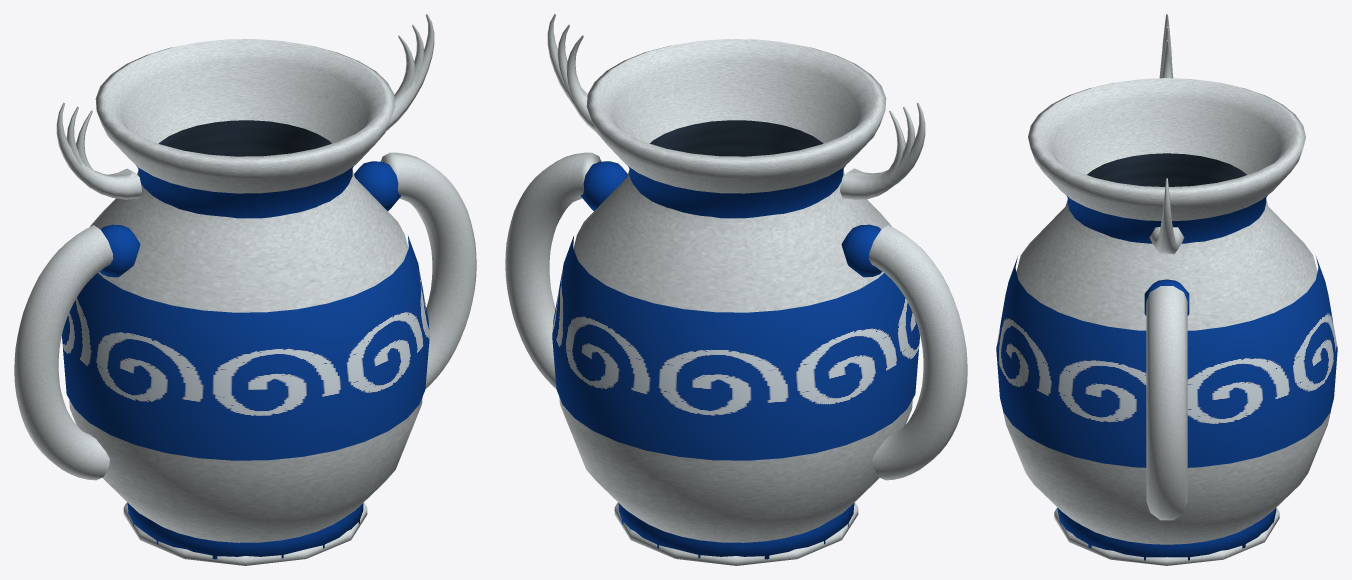
The model's file is gust_jar.glb.
3 renders of one model, left to right at view 1: azimuth 30°, elevation 25°; view 2: azimuth 150°, elevation 25°; view 3: azimuth 270°, elevation 25°, orthographic. The views are drawn at different scales.
Visible parts, largest first — view 1: Blue belly band, Porcelain body, Open flared lip, Loop handle (×2), Blue neck, Recessed inner wall, Foot, White lip fin (×2), Handle socket (×2), Foot porcelain edge; view 2: Blue belly band, Porcelain body, Open flared lip, Loop handle (×2), Blue neck, Recessed inner wall, White lip fin (×5), Foot, Handle socket (×2), Foot porcelain edge; view 3: Blue belly band, Porcelain body, Open flared lip, Loop handle, Recessed inner wall, Blue neck, Foot, Foot porcelain edge, White lip fin.
Part boxes in pixels (<box>): Blue belly band: <box>62,236,429,460</box>; Porcelain body: <box>69,170,422,542</box>; Open flared lip: <box>95,39,395,193</box>; Loop handle (×2): <box>14,152,476,480</box>; Blue neck: <box>136,165,353,218</box>; Recessed inner wall: <box>158,120,331,156</box>; Foot: <box>127,503,363,559</box>; White lip fin (×2): <box>56,14,434,199</box>; Handle socket (×2): <box>99,161,400,277</box>; Foot porcelain edge: <box>123,502,367,565</box>; Blue belly band: <box>552,236,919,460</box>; Porcelain body: <box>559,170,912,542</box>; Open flared lip: <box>586,39,886,193</box>; Loop handle (×2): <box>505,152,967,480</box>; Blue neck: <box>628,165,845,218</box>; Recessed inner wall: <box>650,120,823,156</box>; White lip fin (×5): <box>547,14,925,199</box>; Foot: <box>618,503,854,559</box>; Handle socket (×2): <box>581,161,882,277</box>; Foot porcelain edge: <box>614,502,858,565</box>; Blue belly band: <box>996,256,1337,467</box>; Porcelain body: <box>1003,200,1330,544</box>; Open flared lip: <box>1028,78,1305,220</box>; Loop handle: <box>1146,286,1187,520</box>; Recessed inner wall: <box>1087,153,1246,186</box>; Blue neck: <box>1066,195,1267,243</box>; Foot: <box>1057,508,1276,560</box>; Foot porcelain edge: <box>1054,507,1279,565</box>; White lip fin: <box>1149,178,1173,253</box>.
Size of the model in its own units: 15.29 by 14.83 by 10.73.
Materials: 4 (4 with a texture image).
